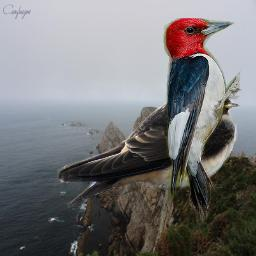Swallow: (57, 82, 241, 208)
Woodpecker: (160, 18, 247, 227)
